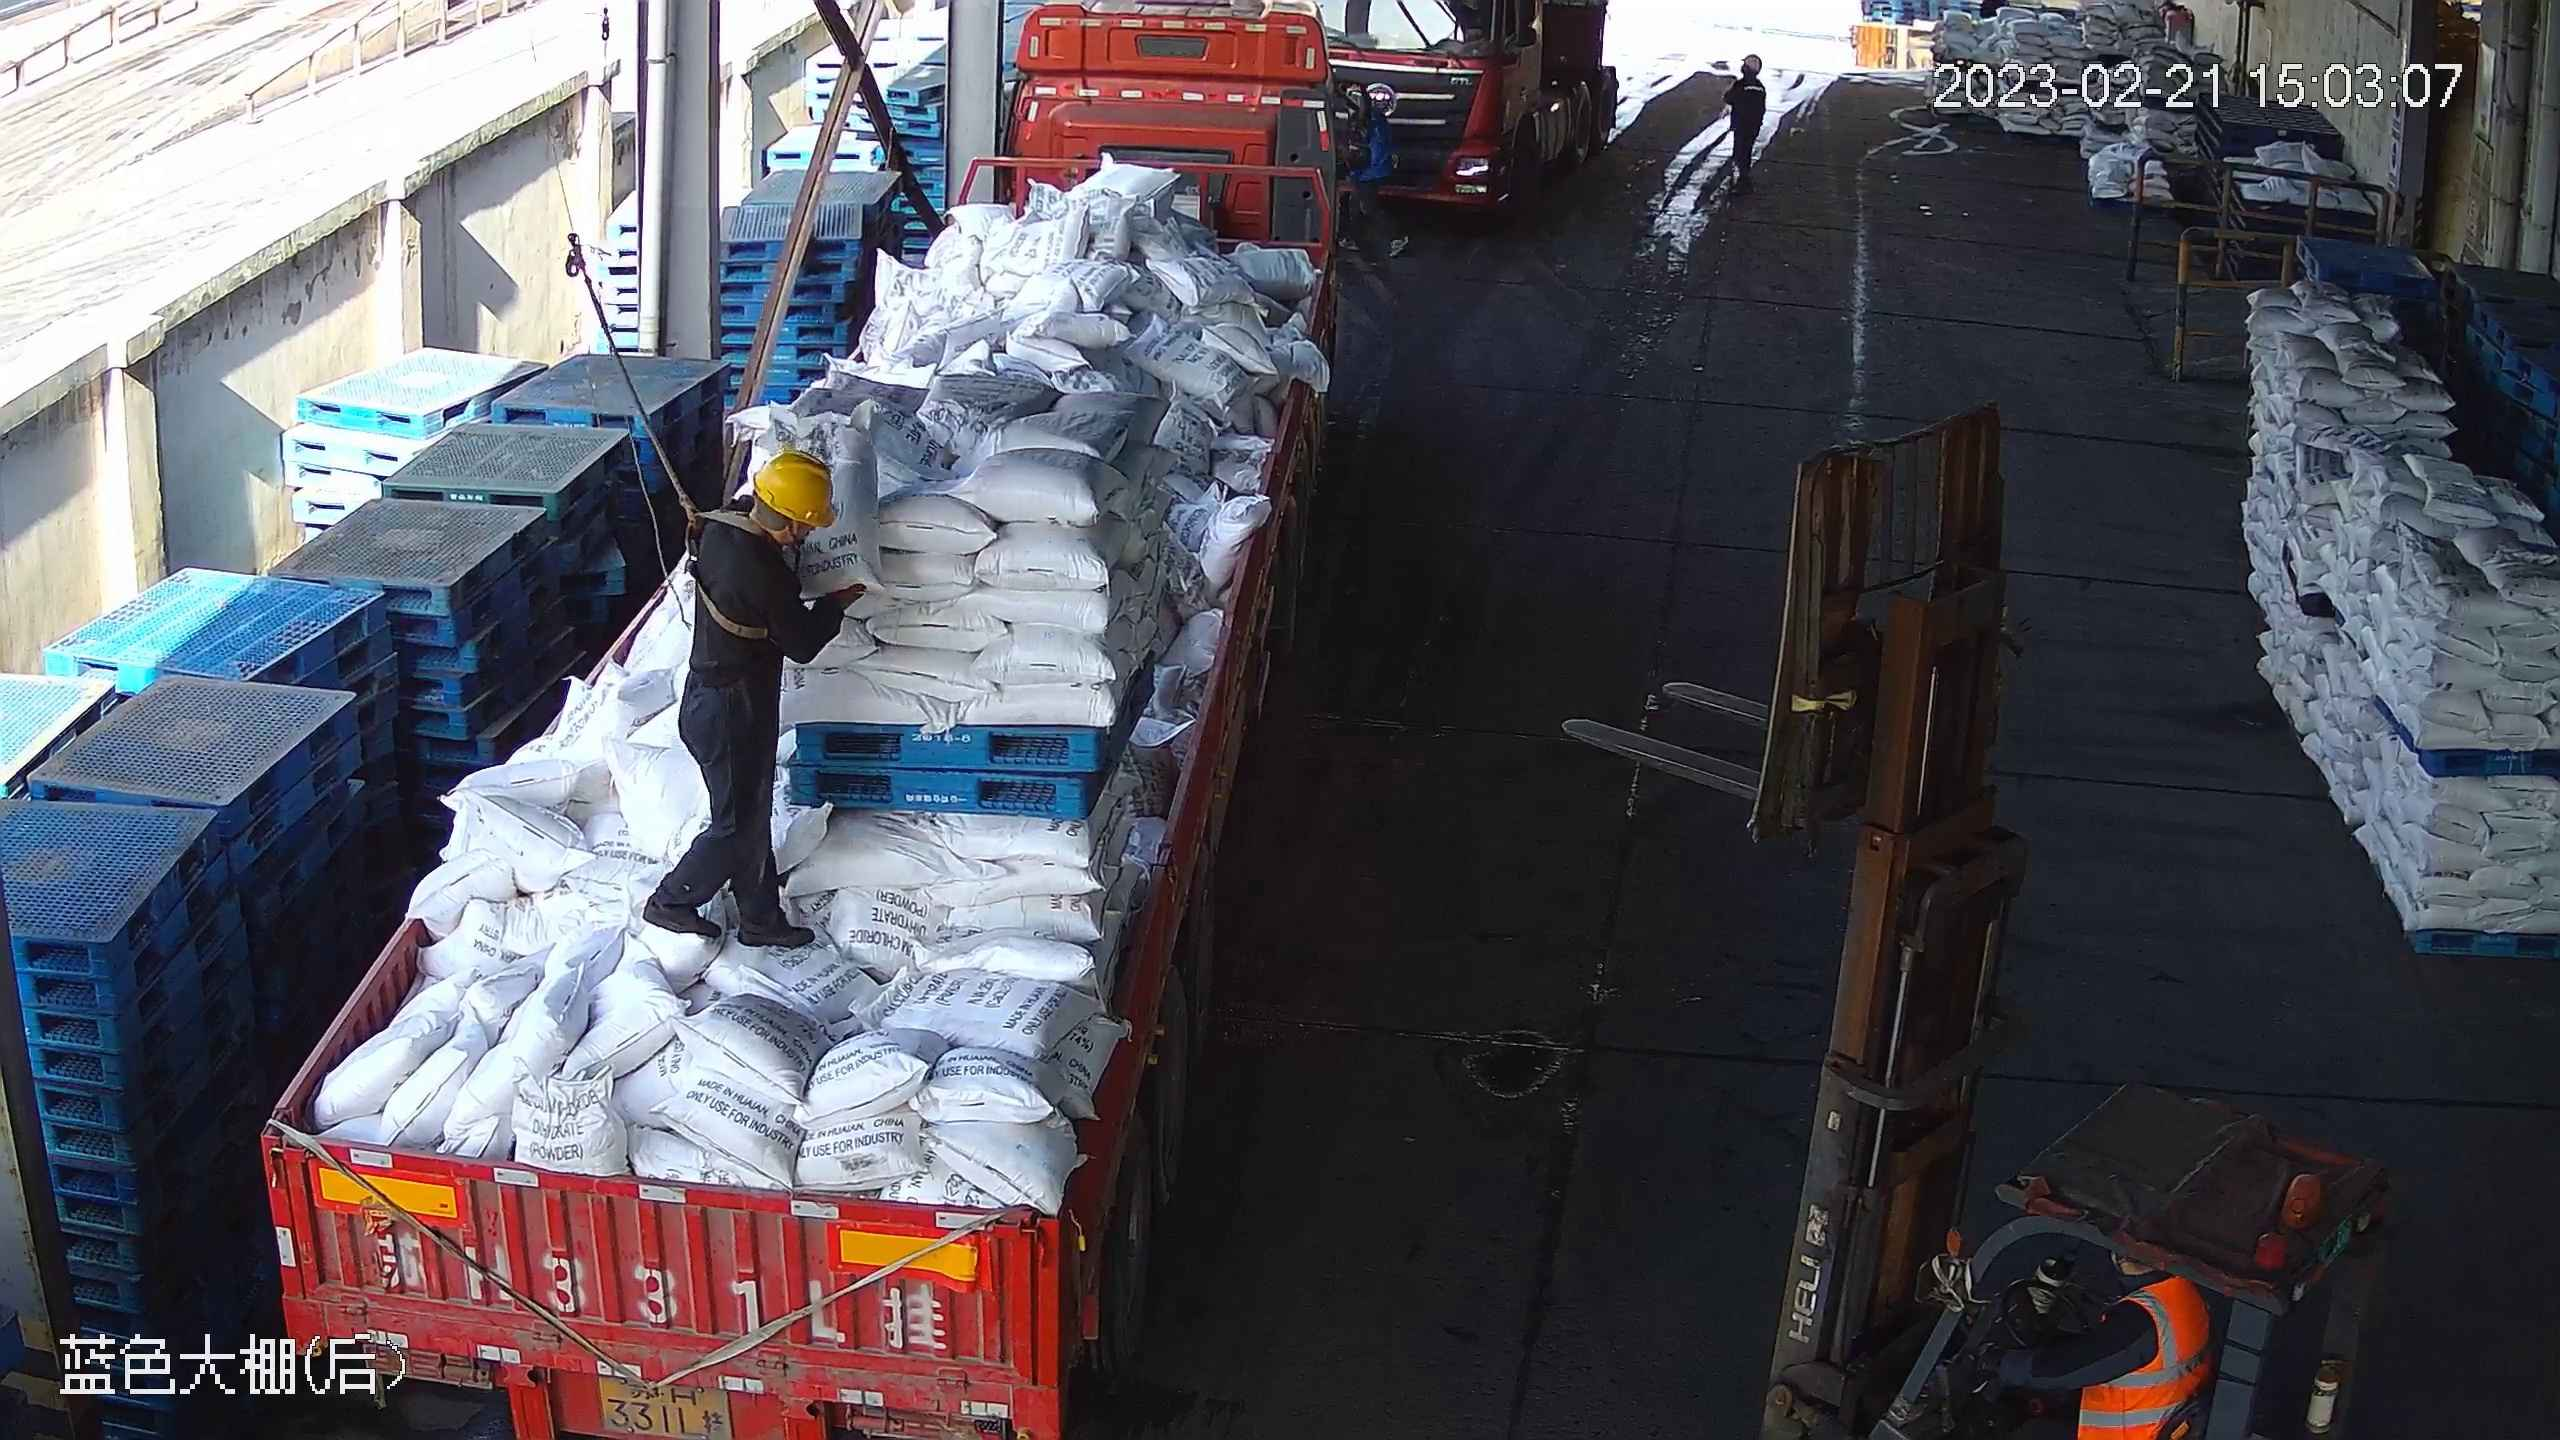belt: (662, 486, 800, 640)
head: (689, 450, 839, 588), (2079, 1249, 2215, 1347)
helmet: (751, 449, 836, 529)
people: (641, 447, 868, 950), (1984, 1240, 2219, 1440)
truck: (254, 1, 1345, 1437)
